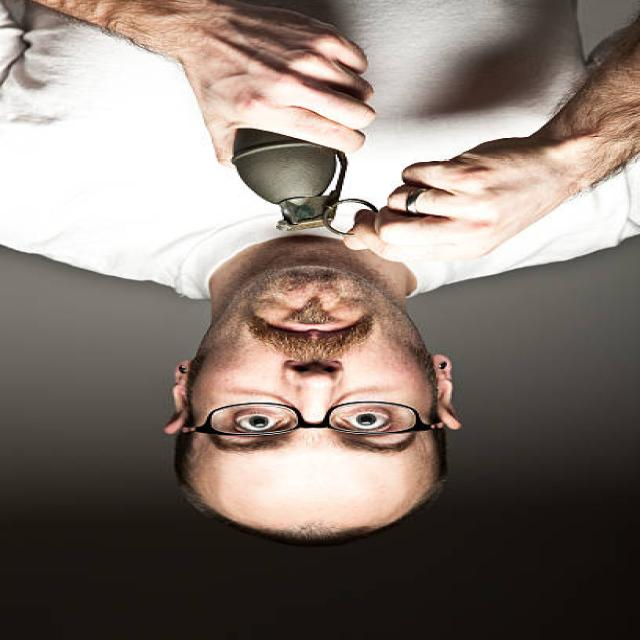grenade: (238, 128, 392, 239)
